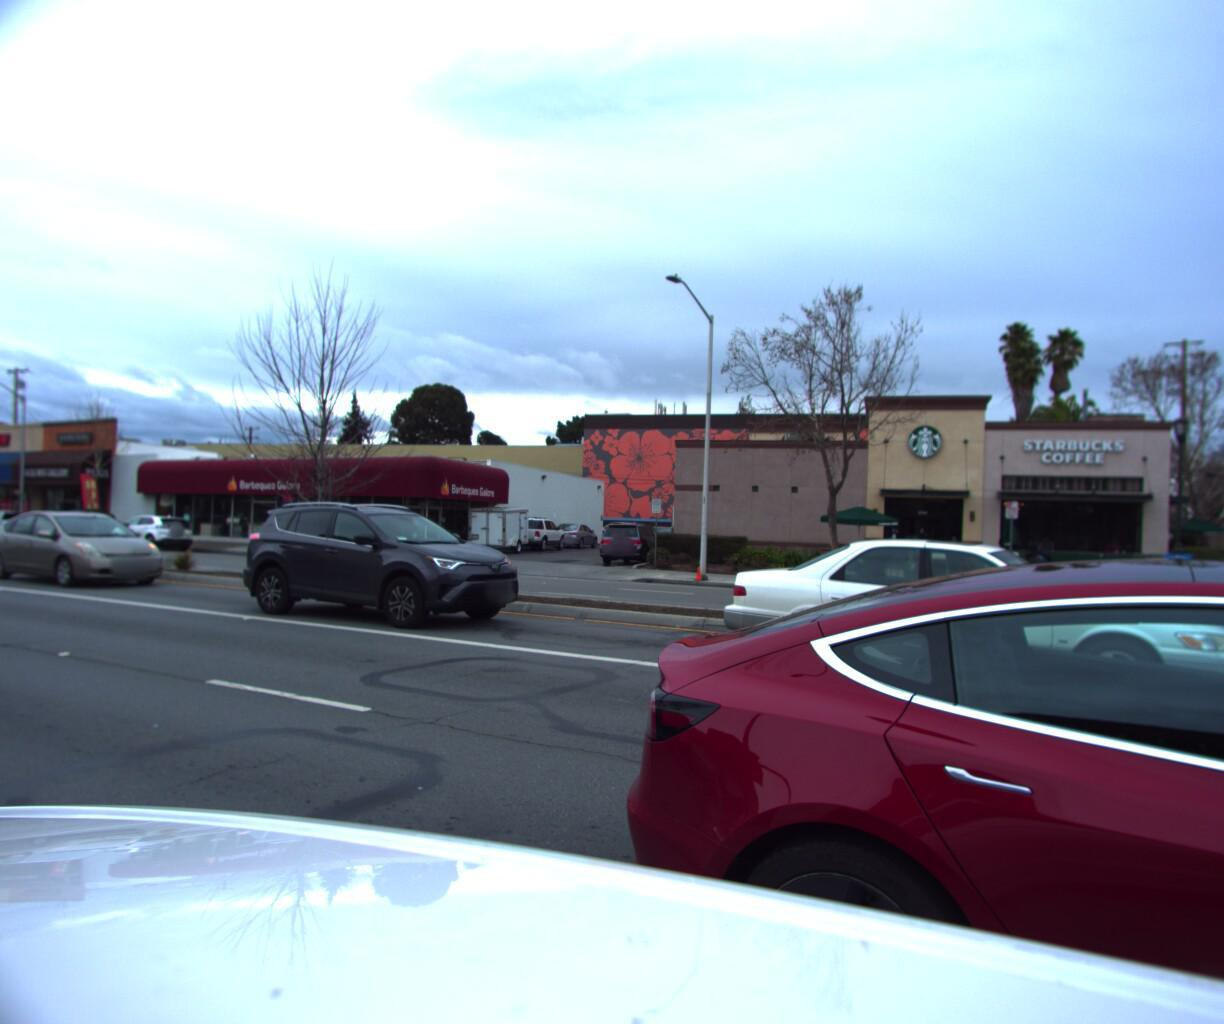car: (546, 493, 1224, 1024), (708, 527, 1221, 723), (219, 498, 545, 638), (0, 513, 183, 597), (104, 511, 207, 556), (594, 517, 667, 570), (0, 509, 53, 546)
other_vehicle: (462, 500, 539, 555)
